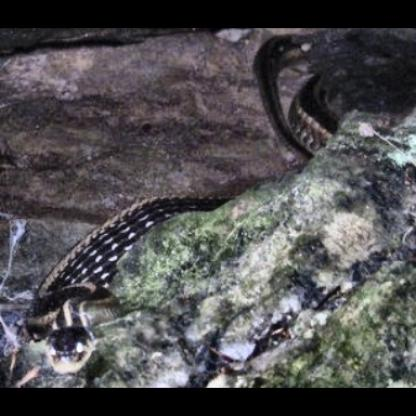Snake: (15, 278, 136, 371)
